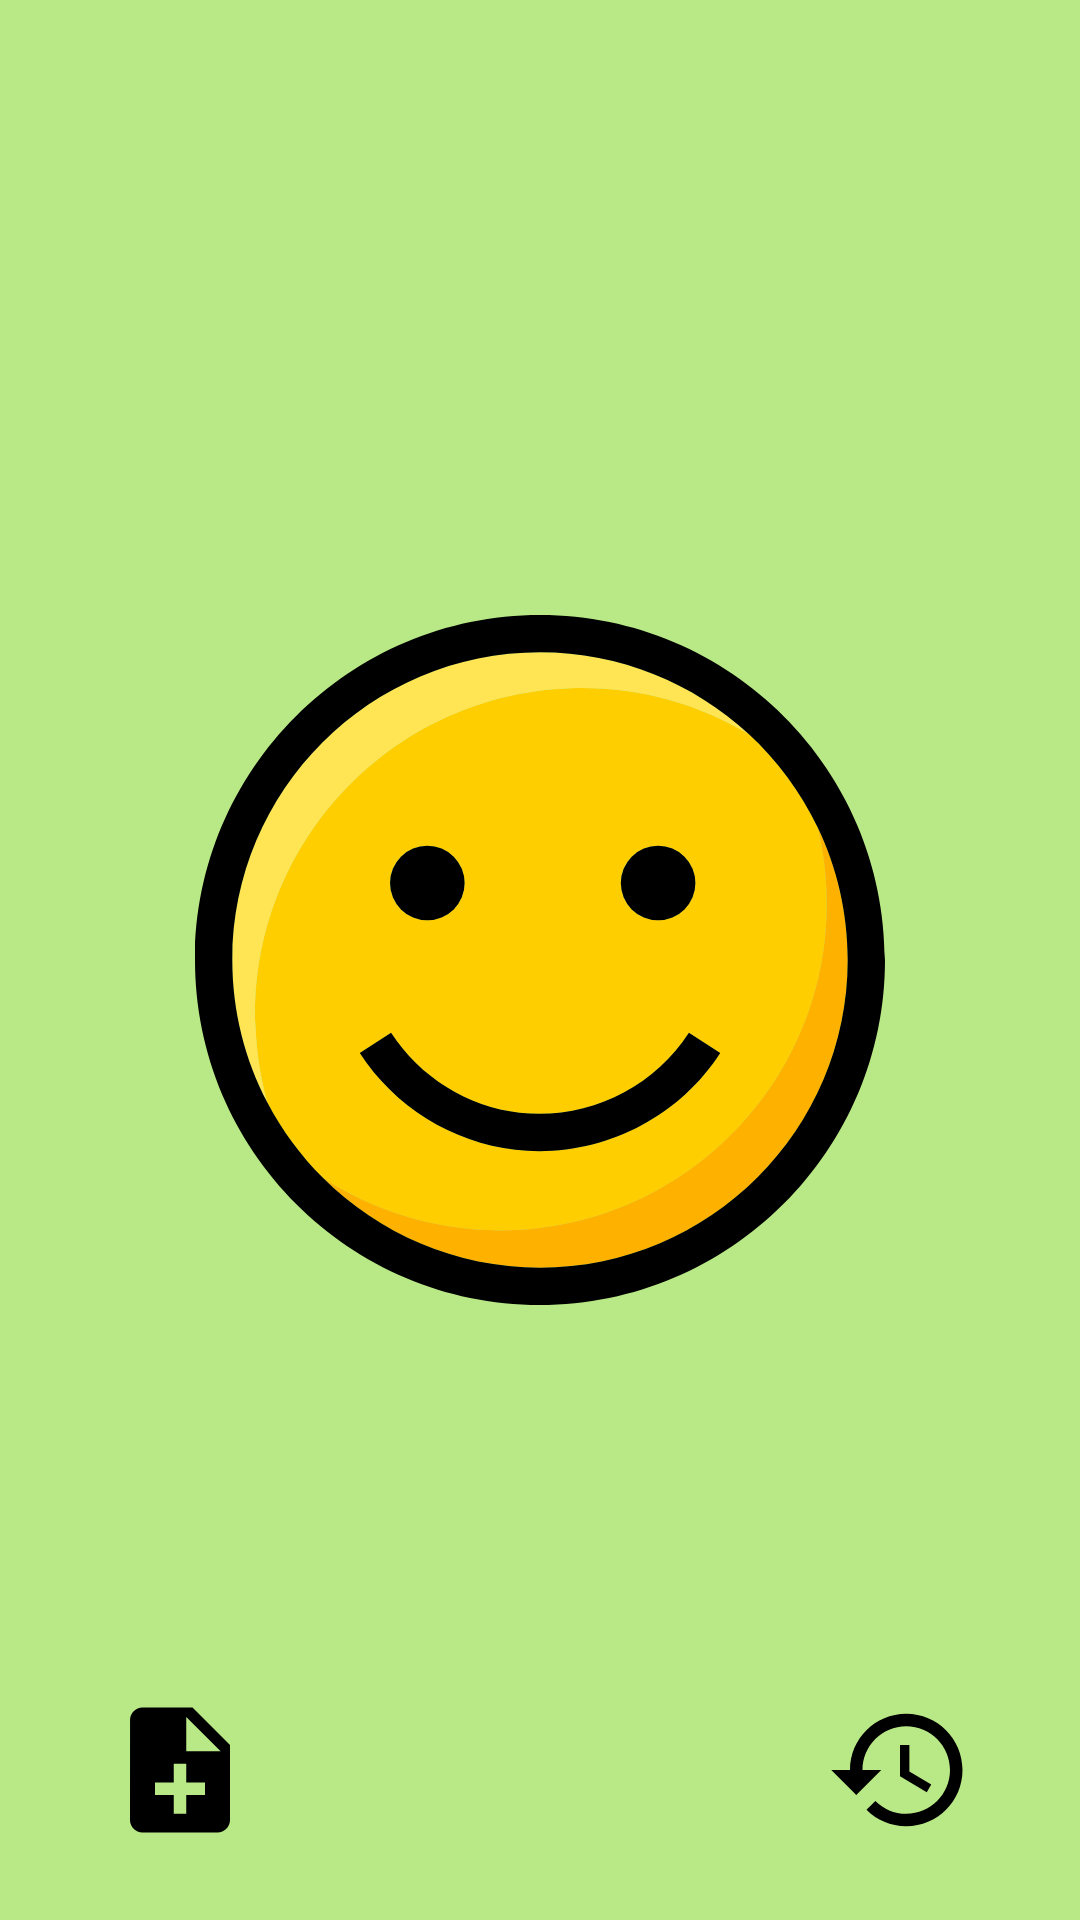

Screen size 1080×1920. Icon name, then its box in pixels as detection(x1, y1, x2, y2):
Mood log icon: detection(130, 1707, 230, 1833)
